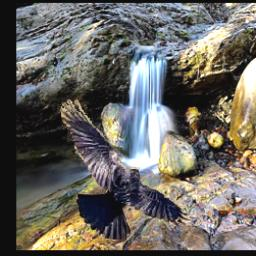Crow: (58, 93, 196, 241)
